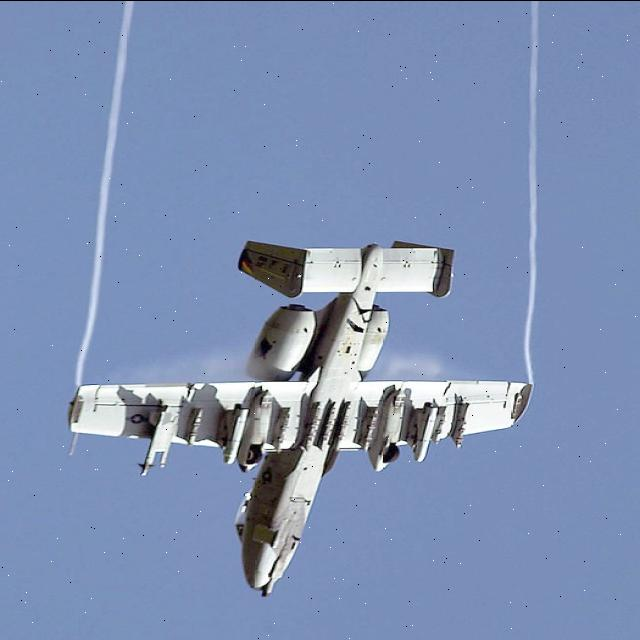A10: (35, 163, 554, 620)
